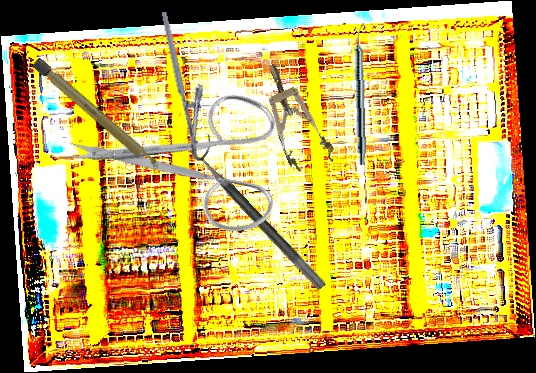Fixation Ring: (184, 130, 339, 292)
Handpiece: (352, 22, 370, 166)
Iris Scissors: (59, 40, 319, 294)
Needle Holder: (160, 7, 217, 155)
Scalpel Handle: (30, 56, 164, 175)
Speculum: (250, 55, 339, 178)
